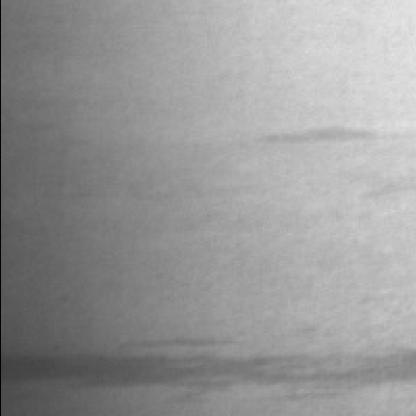inclusion: (0, 332, 410, 400), (252, 112, 393, 162)
